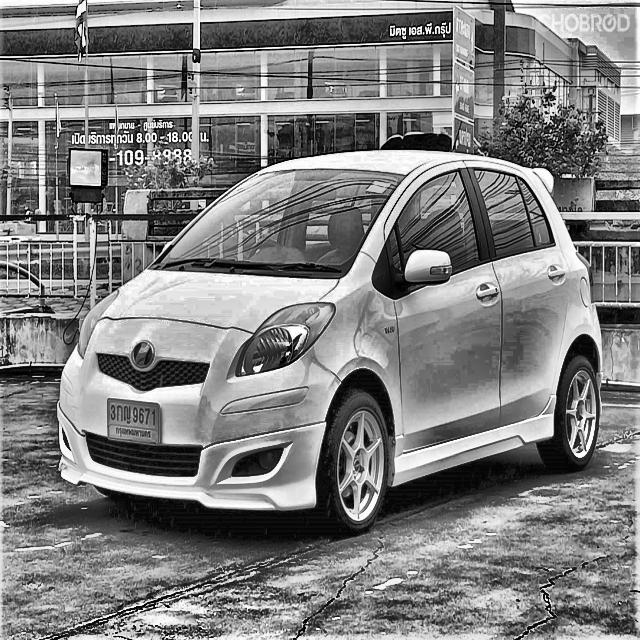license-plate: (105, 394, 162, 452)
